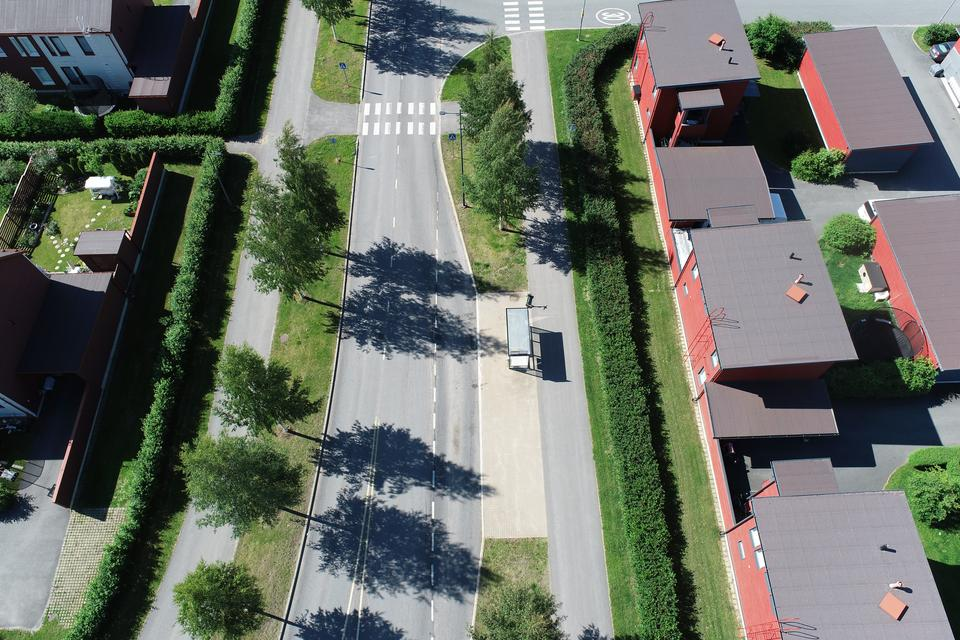intersection: (250, 78, 468, 151)
